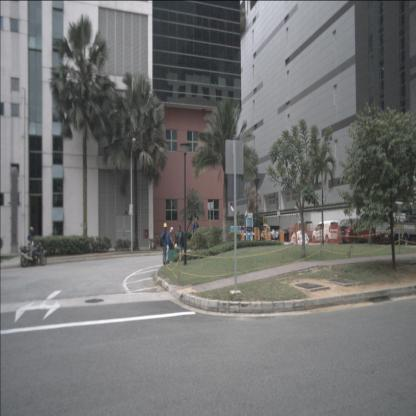human-pedestrian-adult: (192, 216, 200, 256), (178, 225, 184, 262)
vehicle-car: (338, 218, 380, 245), (312, 221, 340, 243), (278, 228, 297, 243), (266, 229, 283, 240)
vehicle-motorcycle: (19, 226, 47, 268)
vehicle-truck: (375, 201, 415, 248), (293, 221, 314, 241)
